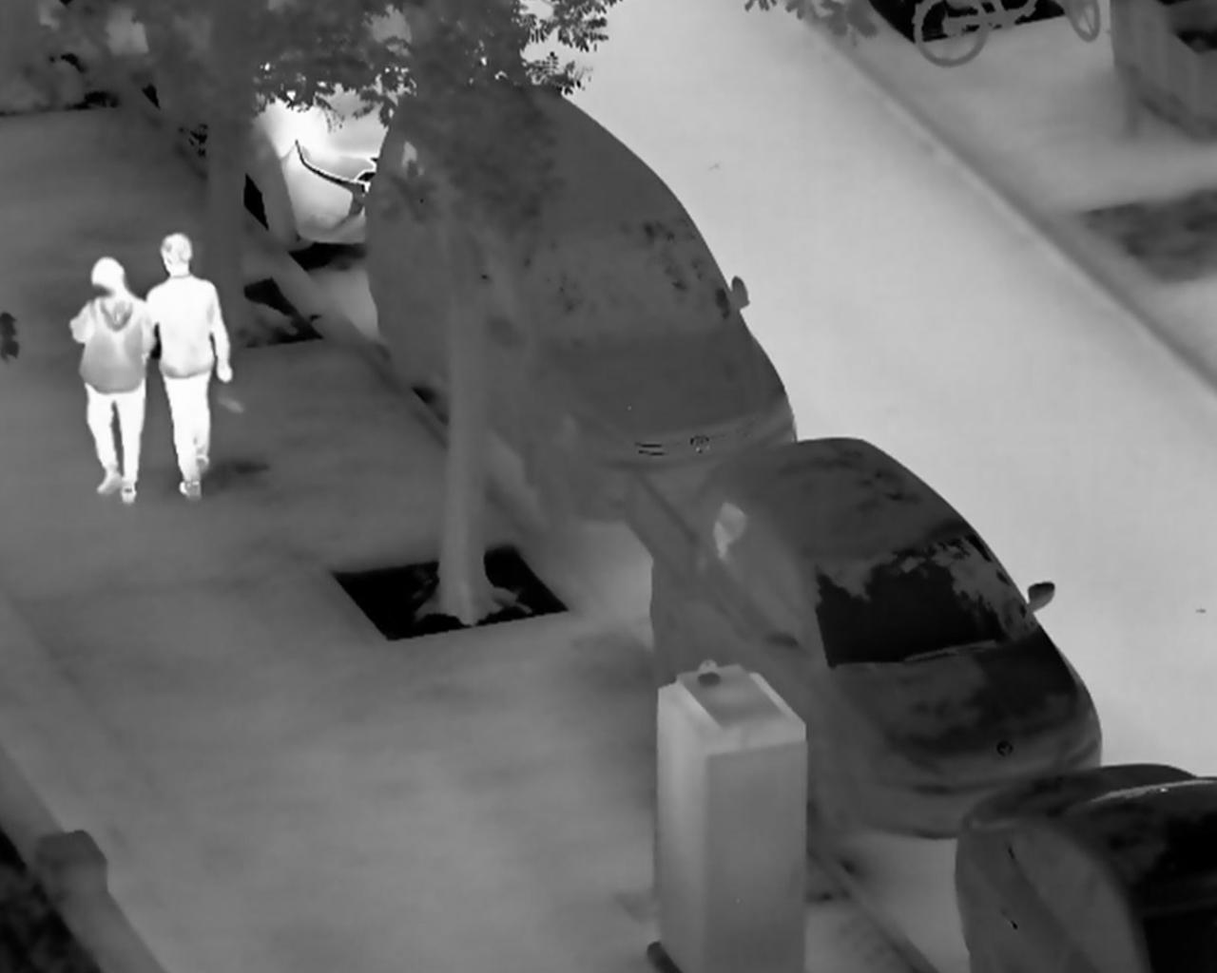person: (143, 229, 234, 505), (66, 257, 157, 507)
